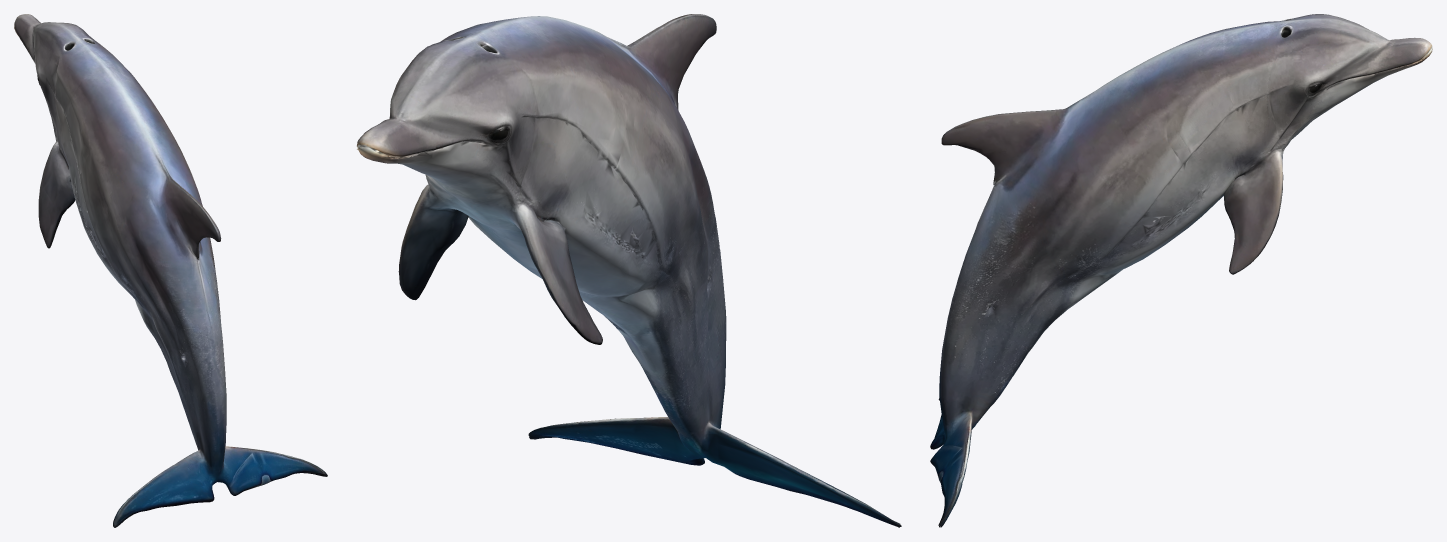
Rendered from dolphin.glb.
3 renders of one model, left to right at view 1: azimuth 30°, elevation 25°; view 2: azimuth 150°, elevation 25°; view 3: azimuth 270°, elevation 25°, orthographic. The views are drawn at different scales.
Parts seen in each view (by area): view 1: tripo_node_bec02012-07a4-456b-9e03-05ff32de828e; view 2: tripo_node_bec02012-07a4-456b-9e03-05ff32de828e; view 3: tripo_node_bec02012-07a4-456b-9e03-05ff32de828e.
Part boxes in pixels (<box>): tripo_node_bec02012-07a4-456b-9e03-05ff32de828e: <box>14,14,327,527</box>; tripo_node_bec02012-07a4-456b-9e03-05ff32de828e: <box>357,14,901,527</box>; tripo_node_bec02012-07a4-456b-9e03-05ff32de828e: <box>930,14,1432,527</box>.
Size of the model in its own units: 0.5931 by 0.9574 by 0.9796.
Materials: 1 (1 with a texture image).
